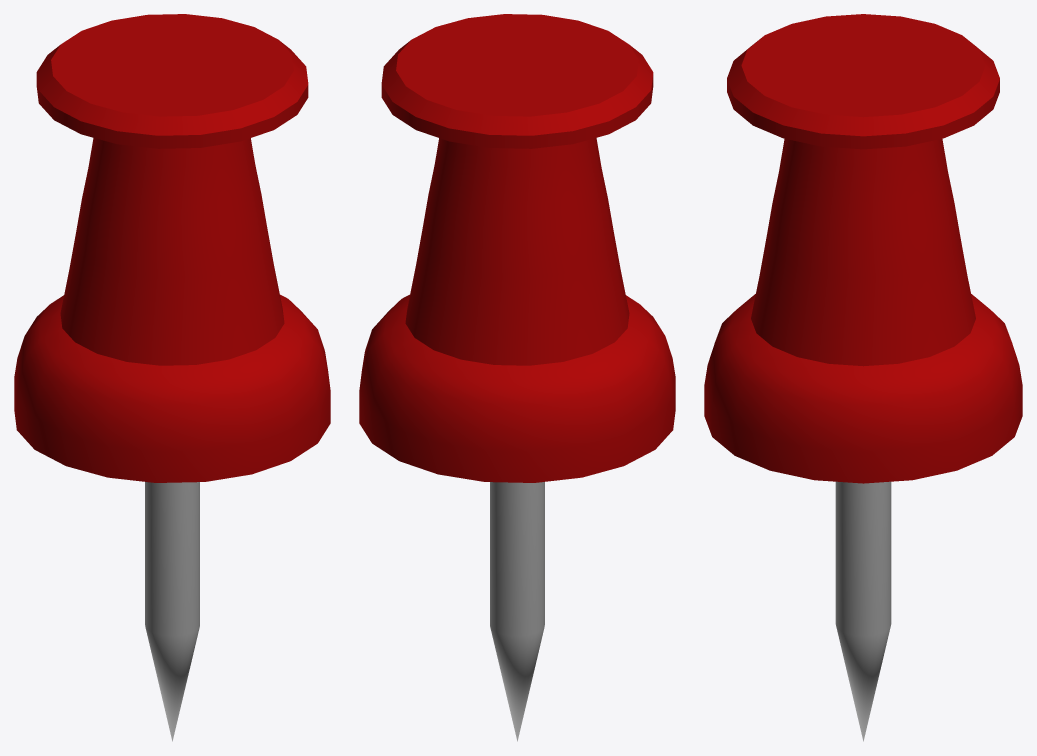
The model's file is Tack.fbx.
3 views of the same model, side by side, from view 1: azimuth 30°, elevation 25°; view 2: azimuth 150°, elevation 25°; view 3: azimuth 270°, elevation 25° (orthographic).
Parts seen in each view (by area): view 1: pCylinder2, pCylinder1; view 2: pCylinder2, pCylinder1; view 3: pCylinder2, pCylinder1.
Part boxes in pixels (x1,y1,x2,y2): pCylinder2: (14, 14, 330, 482); pCylinder1: (145, 482, 199, 741); pCylinder2: (359, 14, 675, 482); pCylinder1: (490, 482, 544, 741); pCylinder2: (704, 14, 1022, 483); pCylinder1: (835, 481, 891, 741).
Size of the model in its own units: 1.17 by 2.75 by 1.17.
